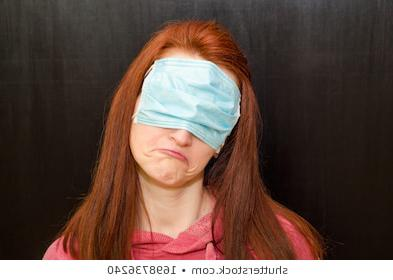mask_weared_incorrect: (137, 74, 230, 189)
